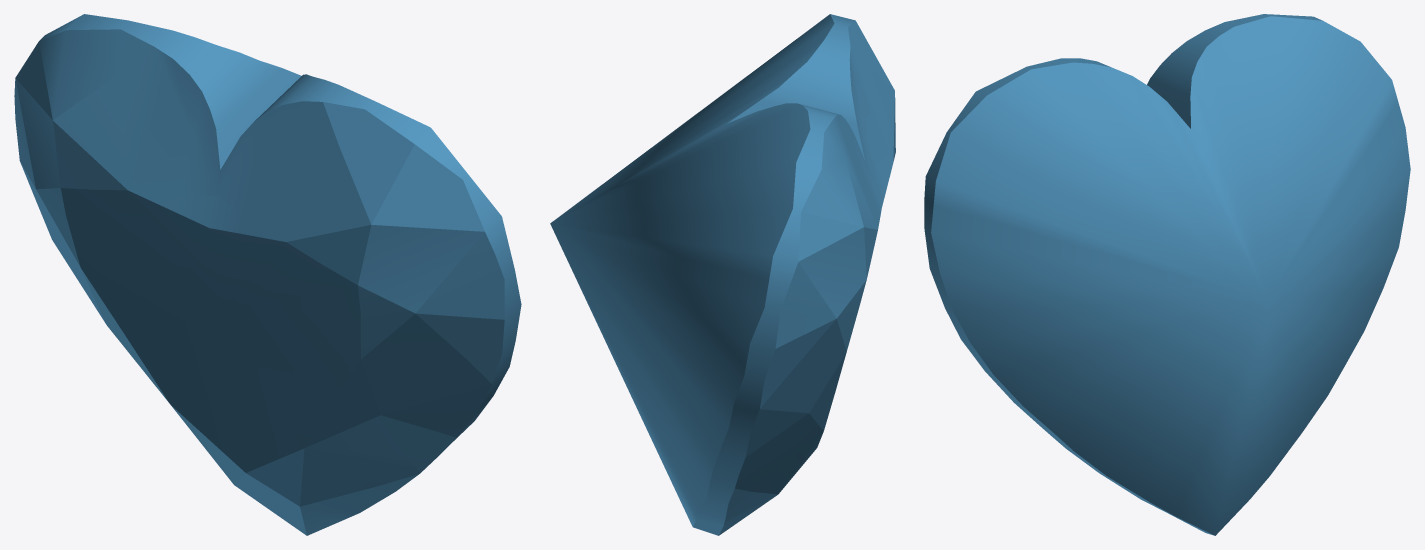
Rendered from TL4_8shapes_heart_Classic_Stone.001 3.glb.
The picture shows the model from 3 angles, left to right: view 1: azimuth 30°, elevation 25°; view 2: azimuth 150°, elevation 25°; view 3: azimuth 270°, elevation 25°; orthographic projection. The views are drawn at different scales.
Visible parts, largest first — view 1: TL4_8shapes_heart_Classic_Stone.001; view 2: TL4_8shapes_heart_Classic_Stone.001; view 3: TL4_8shapes_heart_Classic_Stone.001.
Part boxes in pixels (<box>): TL4_8shapes_heart_Classic_Stone.001: <box>14,14,521,535</box>; TL4_8shapes_heart_Classic_Stone.001: <box>550,14,895,535</box>; TL4_8shapes_heart_Classic_Stone.001: <box>924,14,1410,535</box>.
Size of the model in its own units: 0.354 by 0.4846 by 0.4679.
